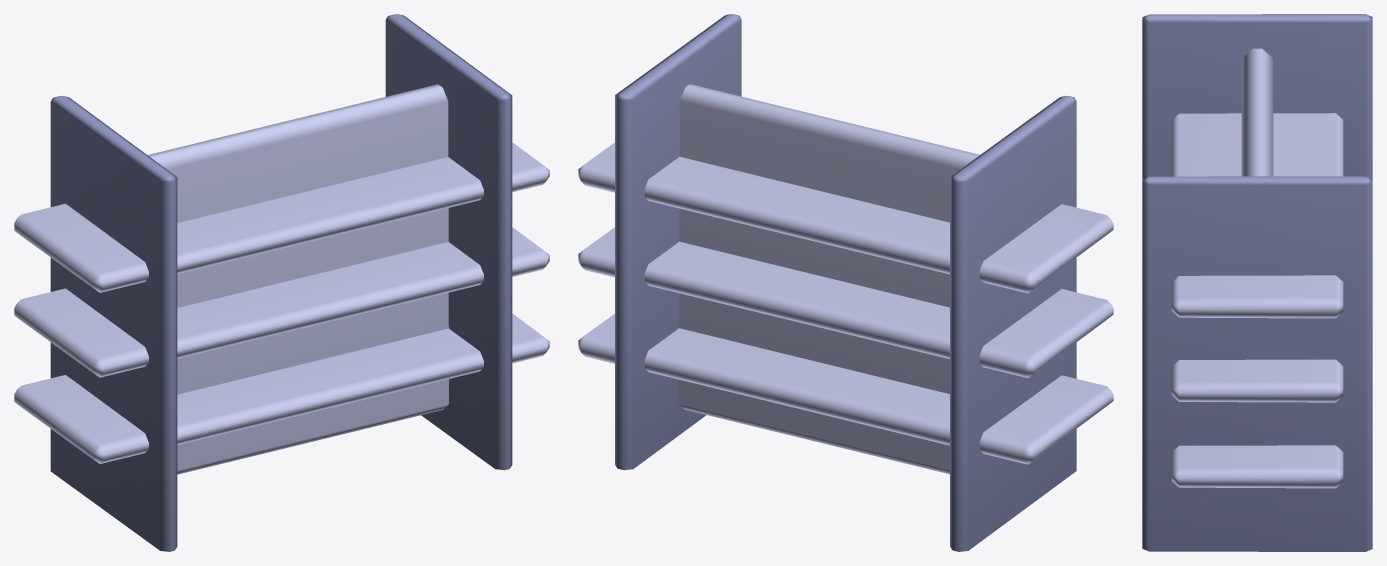
File: Shelf_03.fbx
3 views of the same model, side by side, from view 1: azimuth 30°, elevation 25°; view 2: azimuth 150°, elevation 25°; view 3: azimuth 270°, elevation 25° (orthographic).
Visible parts, largest first — view 1: Shelf_03; view 2: Shelf_03; view 3: Shelf_03.
Part boxes in pixels (left/top/right/bottom): Shelf_03: left=14, top=14, right=549, bottom=551; Shelf_03: left=578, top=14, right=1113, bottom=551; Shelf_03: left=1142, top=14, right=1372, bottom=551.
Size of the model in its own units: 254 by 198 by 112.
